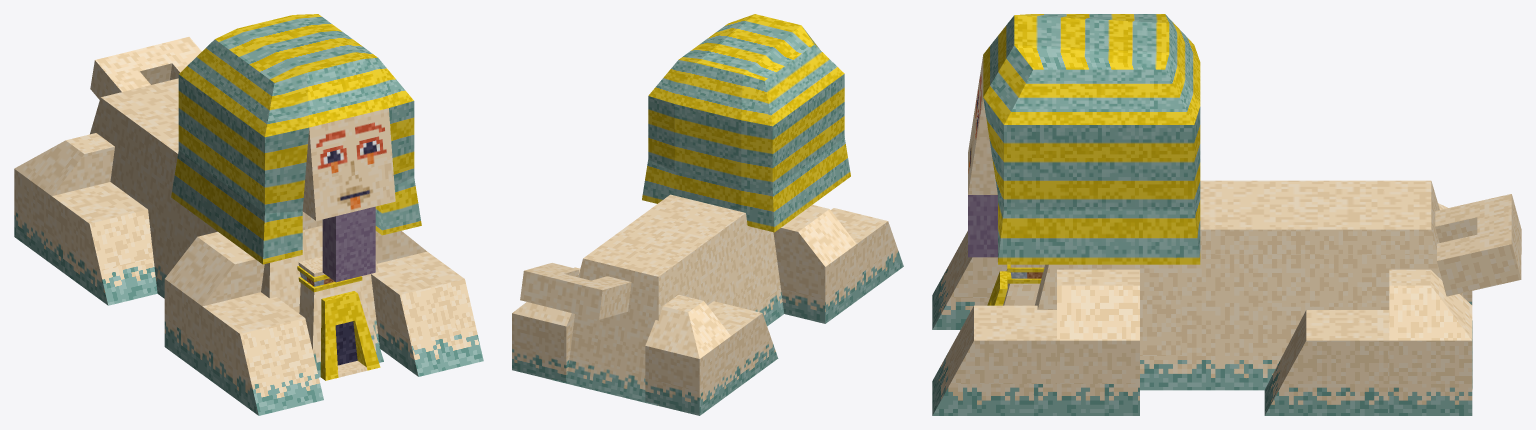
Rendered from Esfinge.fbx.
3 renders of one model, left to right at view 1: azimuth 30°, elevation 25°; view 2: azimuth 150°, elevation 25°; view 3: azimuth 270°, elevation 25°, orthographic. The views are drawn at different scales.
Parts seen in each view (by area): view 1: Cube.006; view 2: Cube.006; view 3: Cube.006.
Part boxes in pixels (x1=…): Cube.006: x1=14, y1=14, x2=483, y2=415; Cube.006: x1=512, y1=14, x2=903, y2=415; Cube.006: x1=932, y1=14, x2=1521, y2=415.
Size of the model in its own units: 6.9 by 8.66 by 14.18.
